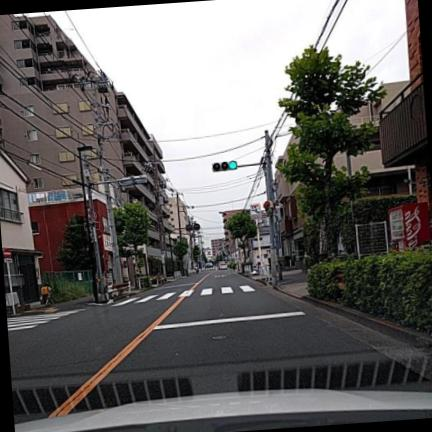Road: (8, 270, 418, 422)
